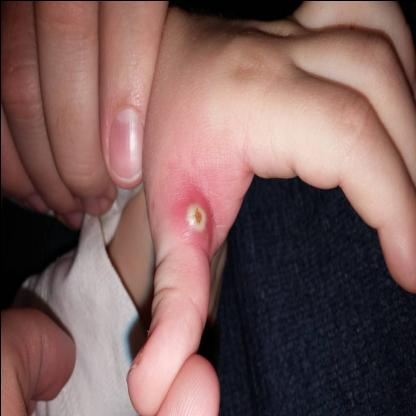Fire ant: (179, 186, 213, 248)
